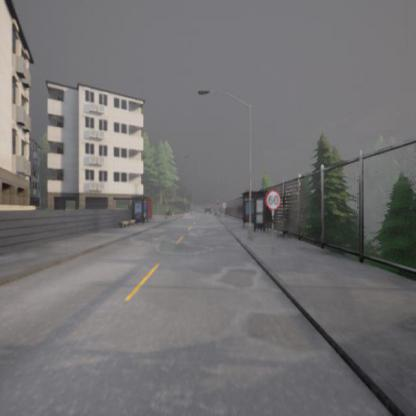traffic_sign_60: (265, 190, 281, 210)
